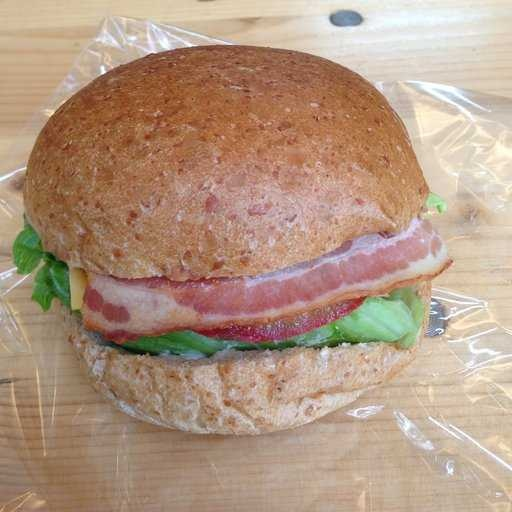hamburger: (22, 38, 464, 431)
